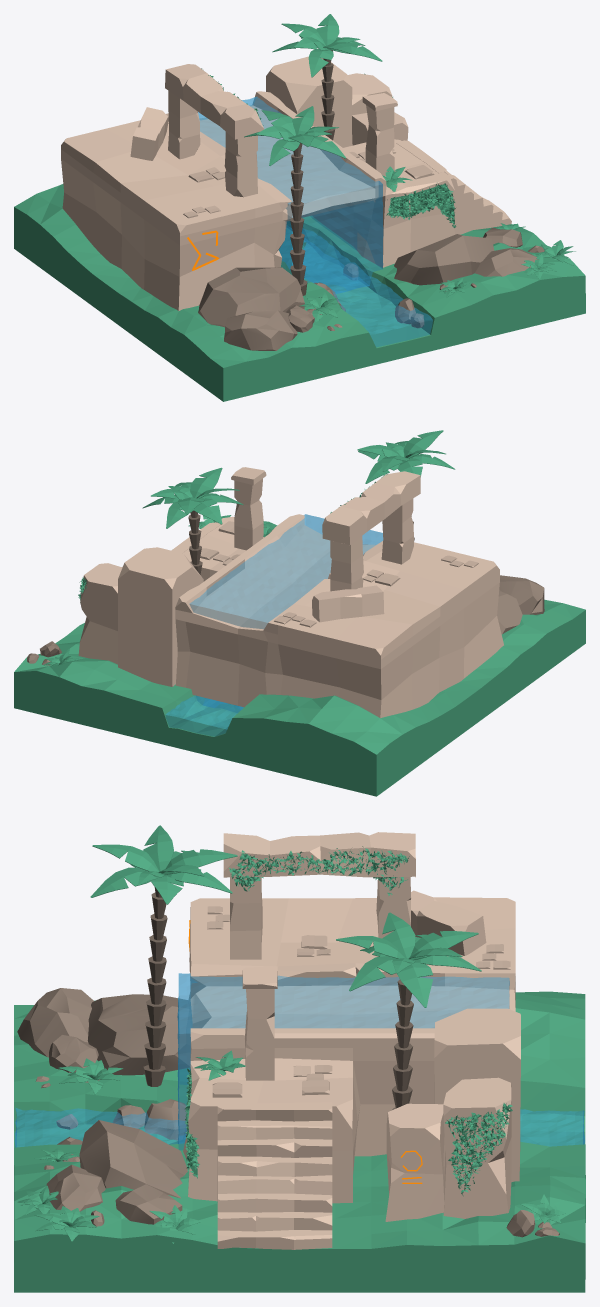
File: AncientRuins-v1.glb
3 renders of one model, top to bottom at view 1: azimuth 30°, elevation 25°; view 2: azimuth 150°, elevation 25°; view 3: azimuth 270°, elevation 25°, orthographic. The views are drawn at different scales.
Parts seen in each view (by area): view 1: Ground; view 2: Ground; view 3: Ground.
Boxes of the visible parts, x1=… form: Ground: x1=14, y1=14, x2=585, y2=401; Ground: x1=14, y1=430, x2=585, y2=796; Ground: x1=14, y1=825, x2=585, y2=1292.
Bounding box in the file's own units: 8.23 × 4.37 × 7.98.
Materials: 3 (3 with a texture image).
